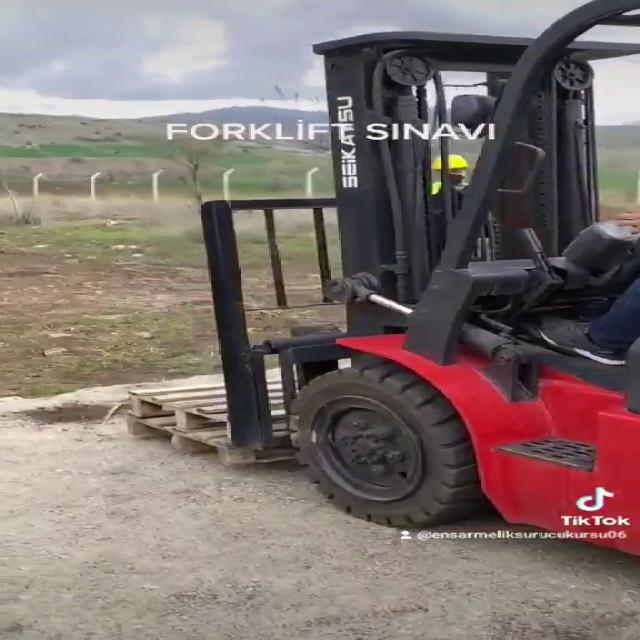ForkLift: (165, 25, 640, 554)
